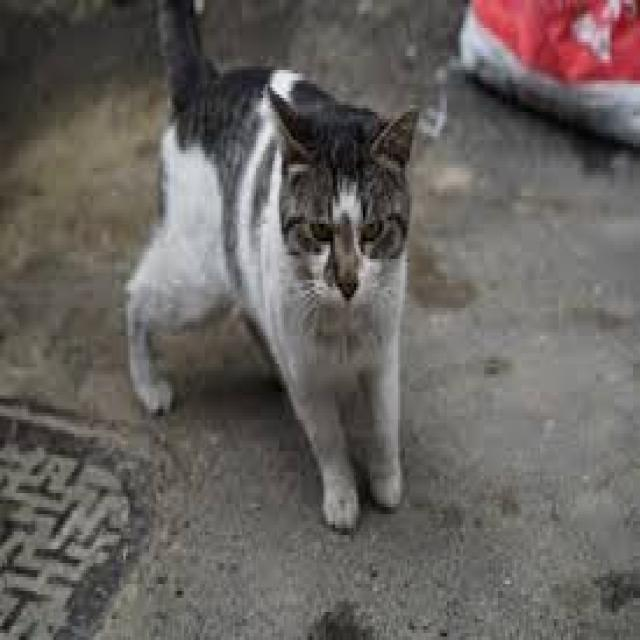cat: (74, 0, 496, 556)
